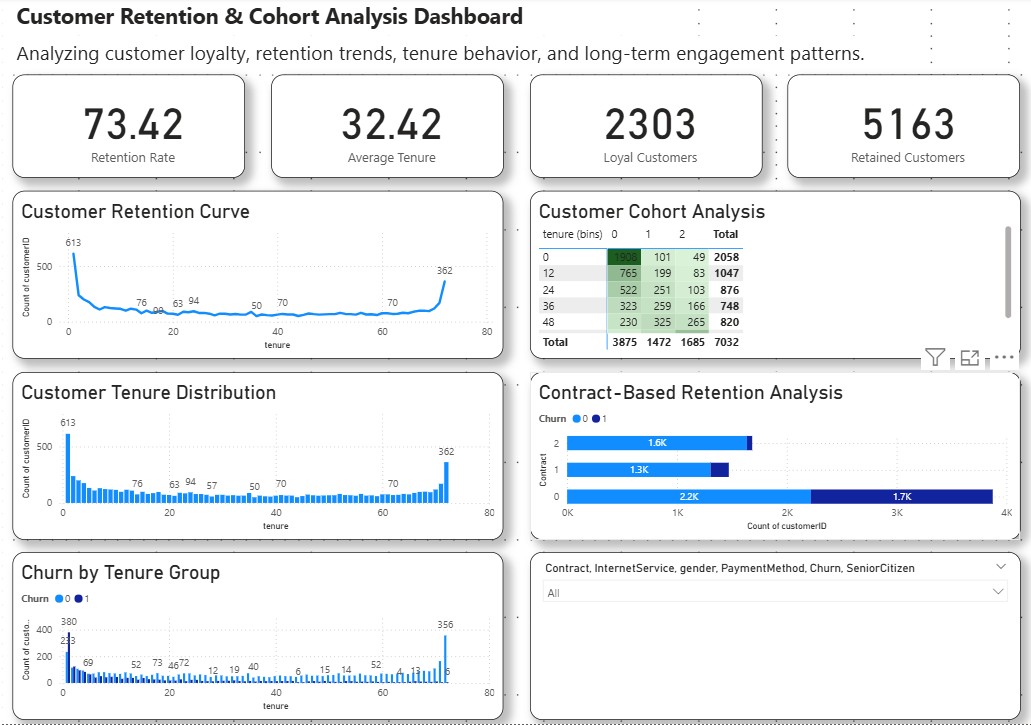

The dashboard page shown, as its layout file describes it:
{"tool":"powerbi","page":{"name":"Customer Retention & Cohort Analysis","canvas":[1280,900],"ordinal":3},"visuals":[{"type":"textbox","box":[16,0,816,48],"z":0},{"type":"textbox","box":[16,48,1120,48],"z":1},{"type":"card","fields":{"Values":["clean_events.Retention Rate"]},"box":[16,96,288,128],"z":2},{"type":"card","fields":{"Values":["clean_events.Average Tenure"]},"box":[336,96,288,128],"z":3},{"type":"card","fields":{"Values":["clean_events.Loyal Customers"]},"box":[656,96,288,128],"z":4},{"type":"card","fields":{"Values":["clean_events.Retained Customers"]},"box":[976,96,288,128],"z":5},{"type":"lineChart","title":"Customer Retention Curve","fields":{"Category":["clean_events.tenure"],"Y":["CountNonNull(clean_events.customerID)"]},"box":[16,240,608,208],"z":6},{"type":"pivotTable","title":"Customer Cohort Analysis","fields":{"Rows":["clean_events.tenure (bins)"],"Columns":["clean_events.Contract"],"Values":["CountNonNull(clean_events.customerID)"]},"box":[656,240,608,208],"z":7},{"type":"clusteredColumnChart","title":"Customer Tenure Distribution","fields":{"Category":["clean_events.tenure"],"Y":["CountNonNull(clean_events.customerID)"]},"box":[16,464,608,208],"z":8},{"type":"barChart","title":"Contract-Based Retention Analysis","fields":{"Category":["clean_events.Contract"],"Y":["CountNonNull(clean_events.customerID)"],"Series":["clean_events.Churn"]},"box":[656,464,608,208],"z":9},{"type":"clusteredColumnChart","title":"Churn by Tenure Group","fields":{"Category":["clean_events.tenure"],"Y":["CountNonNull(clean_events.customerID)"],"Series":["clean_events.Churn"]},"box":[16,688,608,208],"z":10},{"type":"slicer","title":"Filters/Slicers","fields":{"Values":["clean_events.Contract","clean_events.InternetService","clean_events.gender","clean_events.PaymentMethod","clean_events.Churn","clean_events.SeniorCitizen"]},"box":[656,688,608,208],"z":11}]}

Visuals, with their boxes in screenshot pixels (x1, y1, x2, y2), scaled from the page's 1280x900 canvas onto the 1031x725 screenshot:
textbox: locate(13, 0, 670, 39)
textbox: locate(13, 39, 915, 77)
card - clean_events.Retention Rate: locate(13, 77, 245, 180)
card - clean_events.Average Tenure: locate(271, 77, 503, 180)
card - clean_events.Loyal Customers: locate(528, 77, 760, 180)
card - clean_events.Retained Customers: locate(786, 77, 1018, 180)
"Customer Retention Curve" lineChart: locate(13, 193, 503, 361)
"Customer Cohort Analysis" pivotTable: locate(528, 193, 1018, 361)
"Customer Tenure Distribution" clusteredColumnChart: locate(13, 374, 503, 541)
"Contract-Based Retention Analysis" barChart: locate(528, 374, 1018, 541)
"Churn by Tenure Group" clusteredColumnChart: locate(13, 554, 503, 722)
"Filters/Slicers" slicer: locate(528, 554, 1018, 722)
